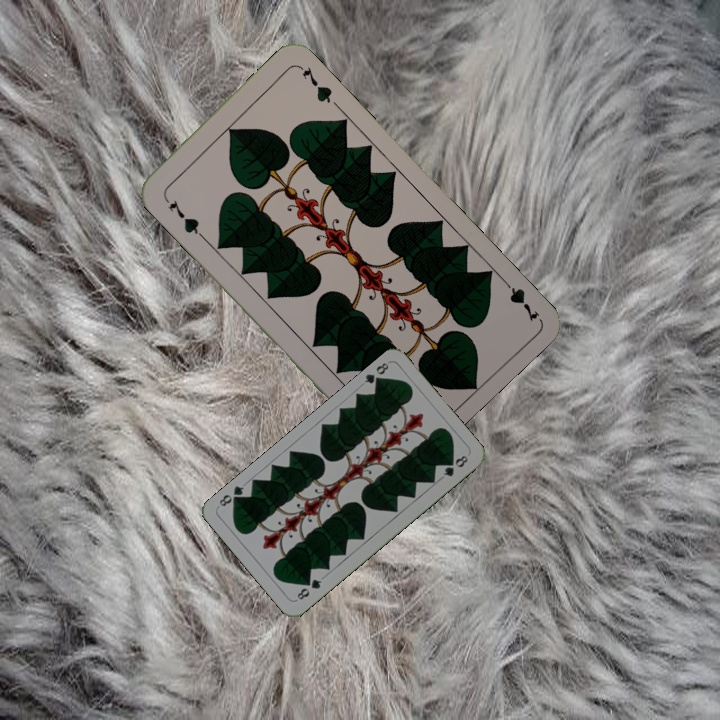G7: (496, 272, 542, 324), (164, 196, 205, 239)
G8: (360, 358, 392, 389), (293, 575, 324, 603)
